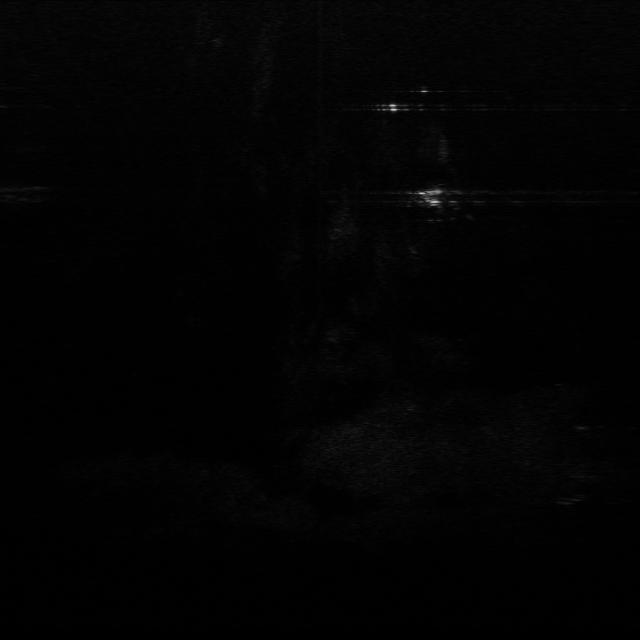rov: (414, 184, 448, 209)
